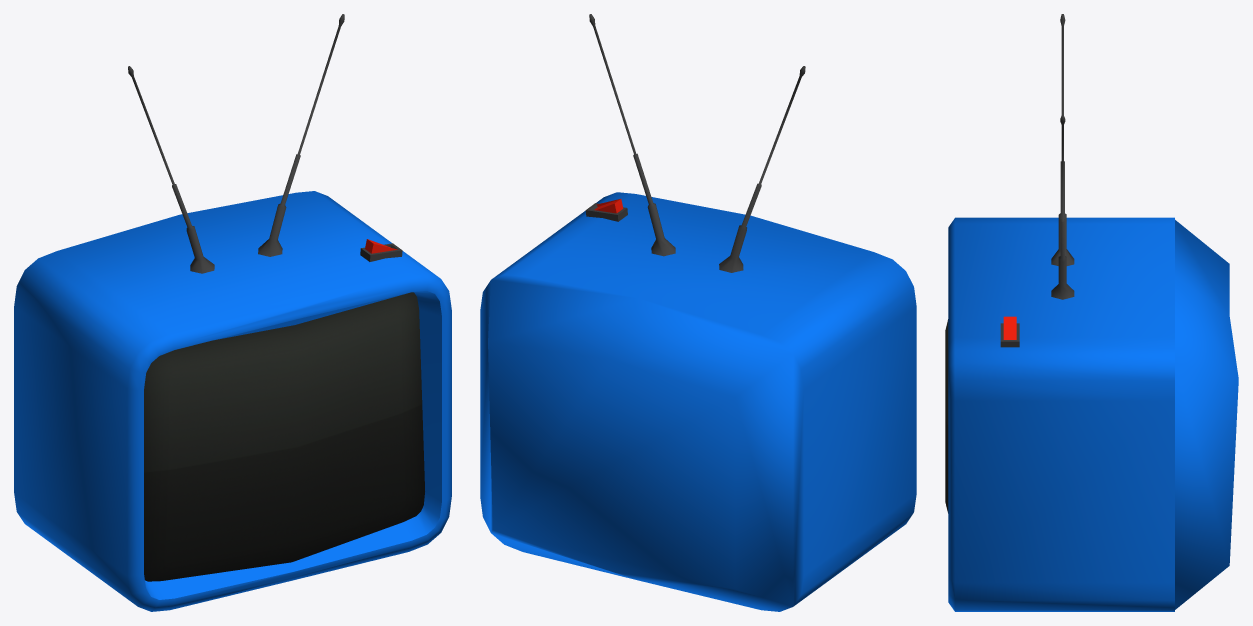
3 views of the same model, side by side, from view 1: azimuth 30°, elevation 25°; view 2: azimuth 150°, elevation 25°; view 3: azimuth 270°, elevation 25° (orthographic). The views are drawn at different scales.
Visible parts, largest first — view 1: Tv; view 2: Tv; view 3: Tv.
Boxes of the visible parts, x1,y1,x2,y2 form: Tv: (14,14,451,611); Tv: (480,14,916,611); Tv: (945,14,1238,611).
Bounding box in the file's own units: 125 × 184 × 101.
